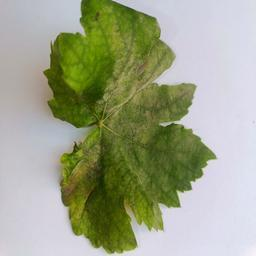Powdery-Mildew: (66, 143, 99, 200), (117, 104, 161, 145), (97, 62, 141, 102), (100, 12, 134, 49), (146, 47, 175, 75)
